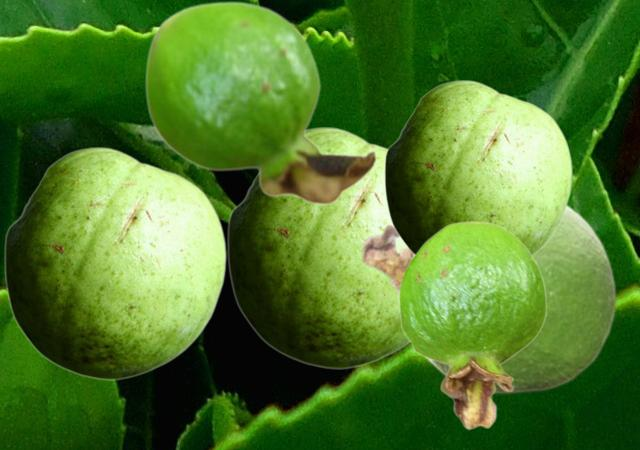guava: (4, 147, 225, 379), (360, 204, 617, 395), (144, 0, 377, 205), (227, 127, 409, 368), (384, 80, 571, 255), (398, 220, 546, 429)
